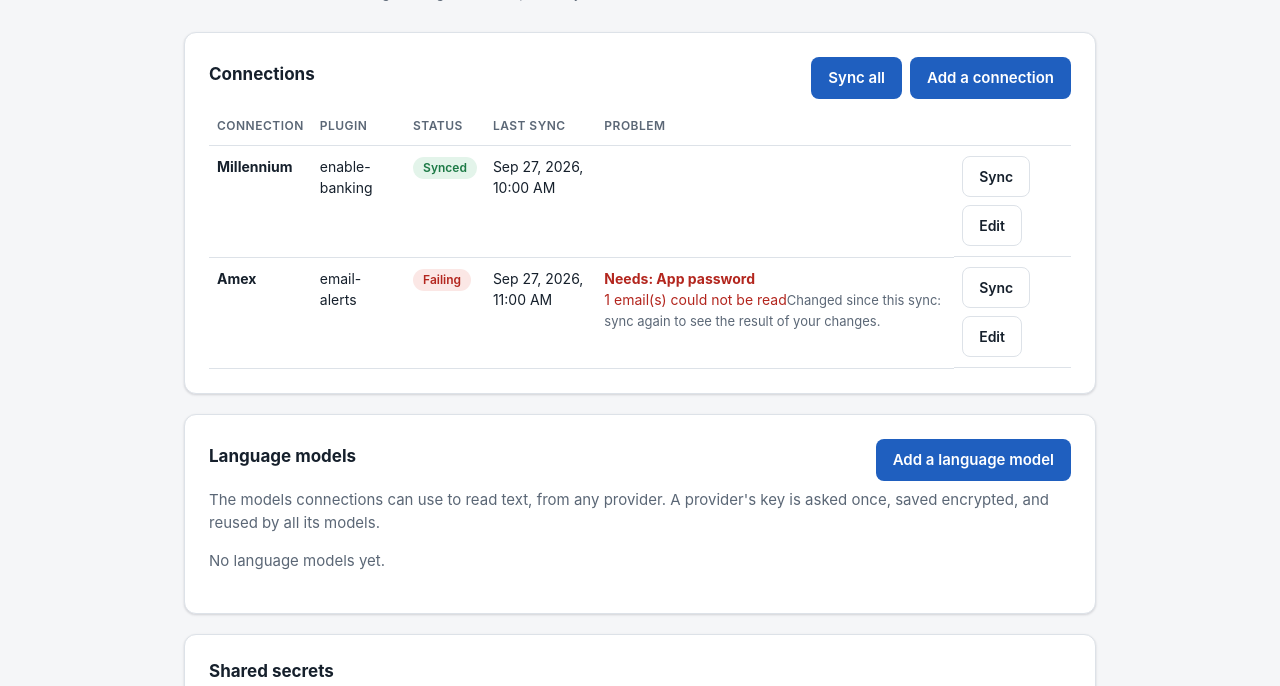
Test case: adding a connection › shows each variable with its help, then saves settings and secrets apart
Click the button "Add a connection". click: click(990, 78)
box: [910, 56, 1071, 99]
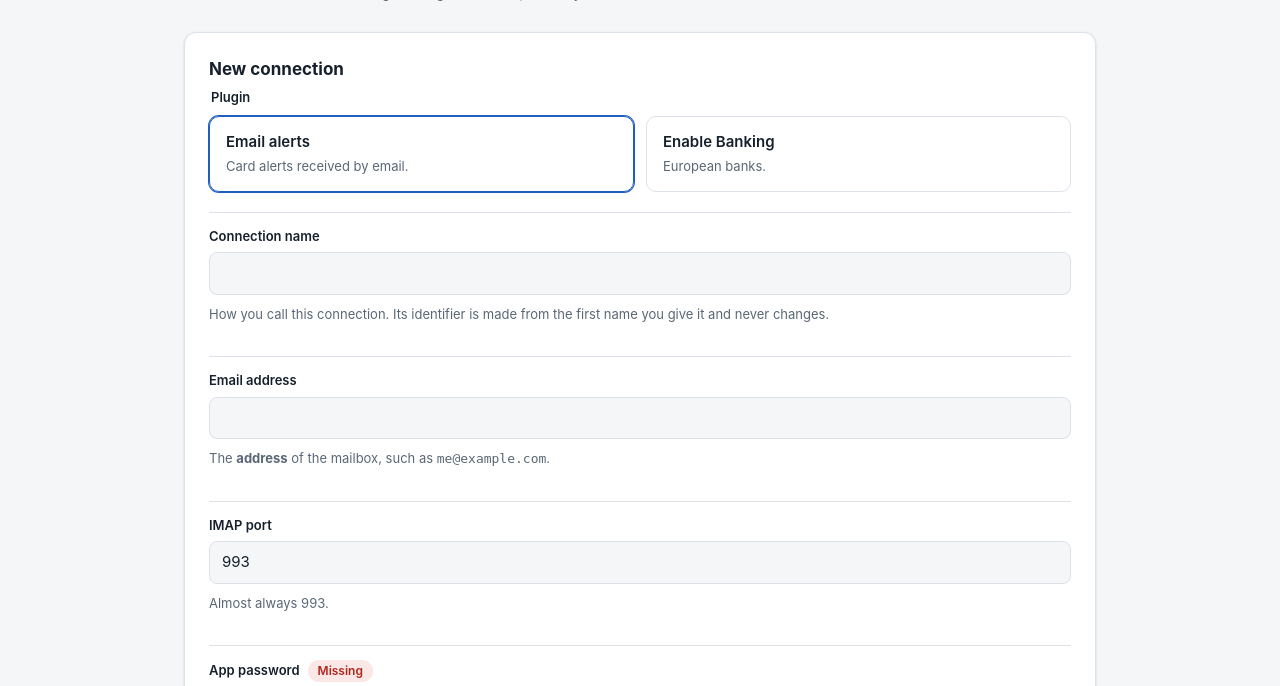
Type "Amex Work" into the field labelled "Connection name". click: (640, 273)
box: [209, 252, 1071, 294]
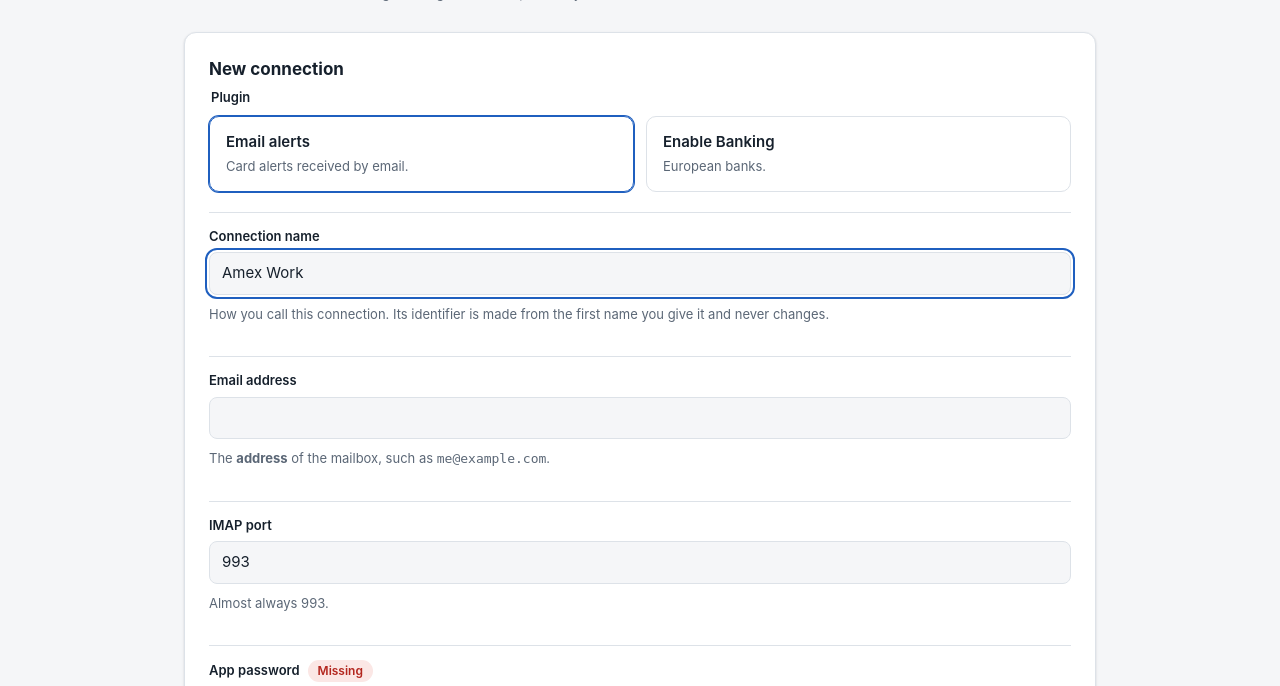
Type "me@example.com" into the field labelled "Email address". click: (640, 418)
box: [209, 396, 1071, 439]
(page scrolled)
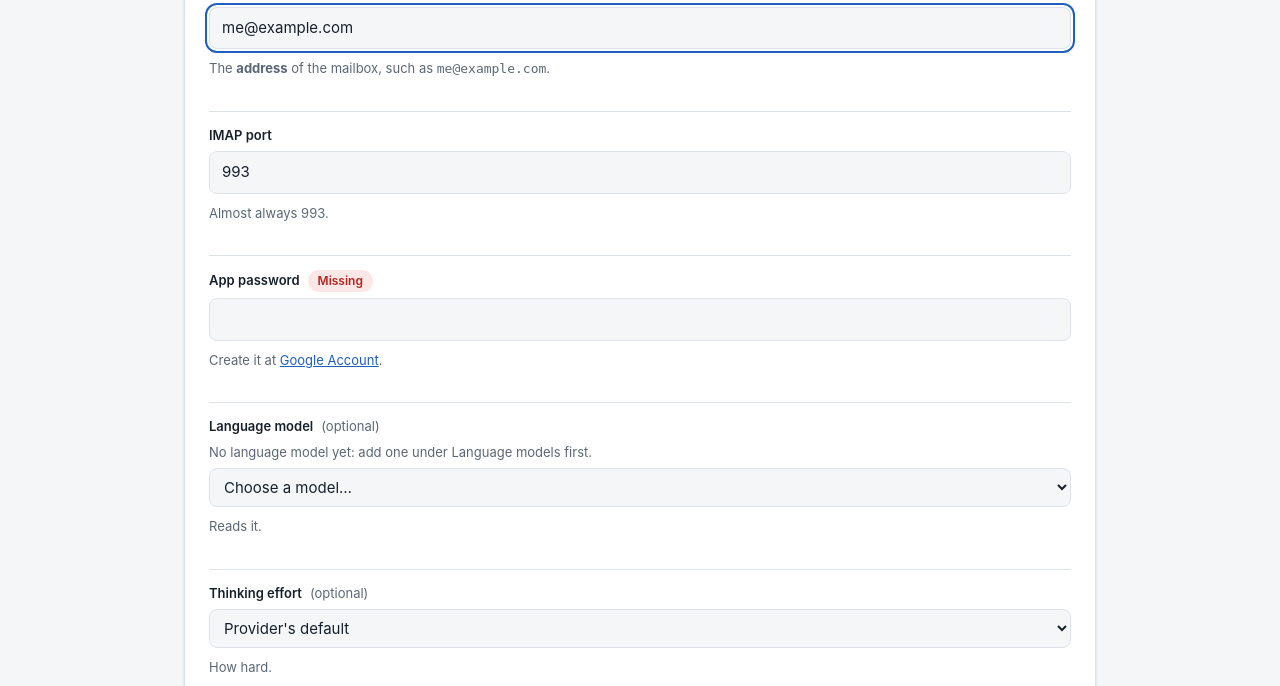
Type "app-password-value" into the password field labelled "App password Missing". click: (640, 319)
box: [209, 298, 1071, 340]
(page scrolled)
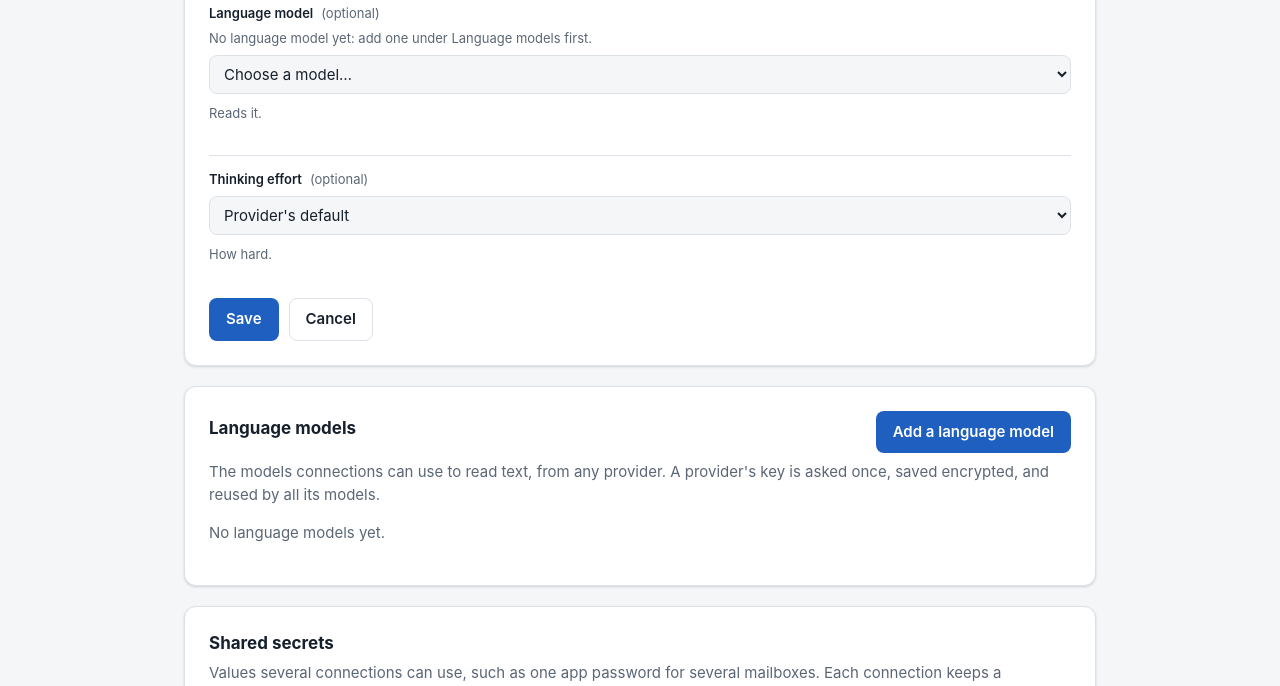
Click the button "Save". click: click(244, 319)
box: [209, 298, 278, 340]
(page scrolled)
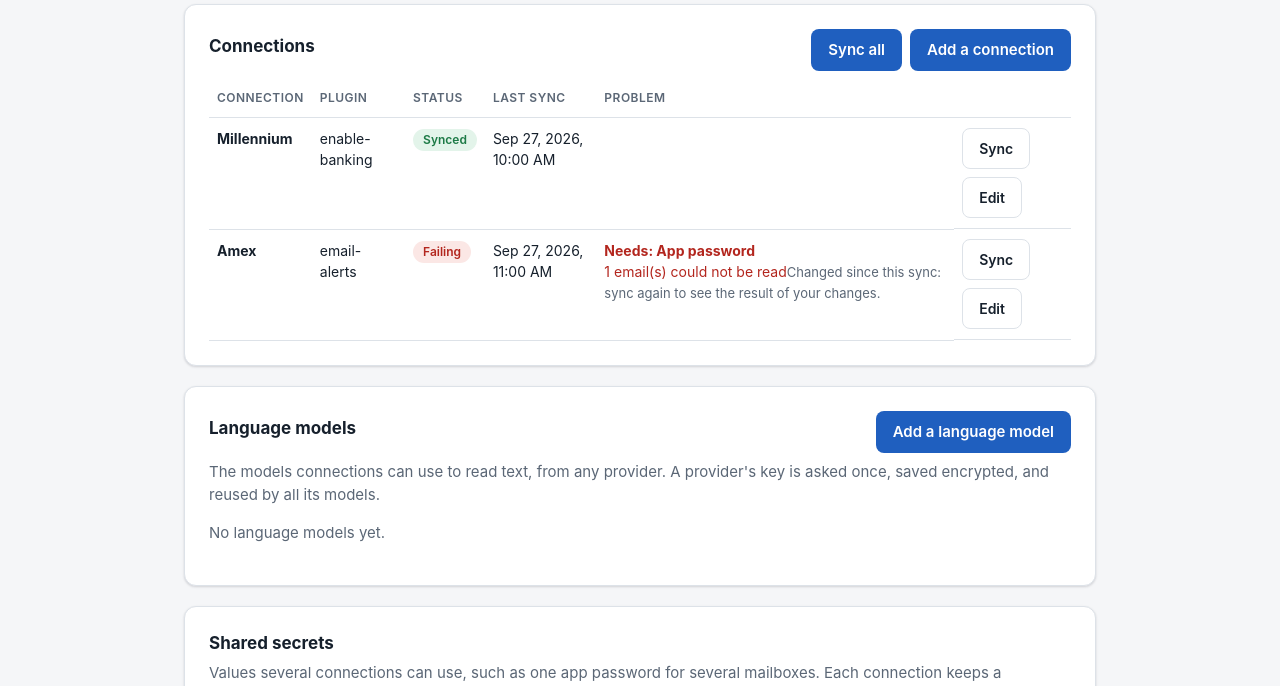
Check: the button "Add a connection" is shown, box [910, 28, 1071, 71]
